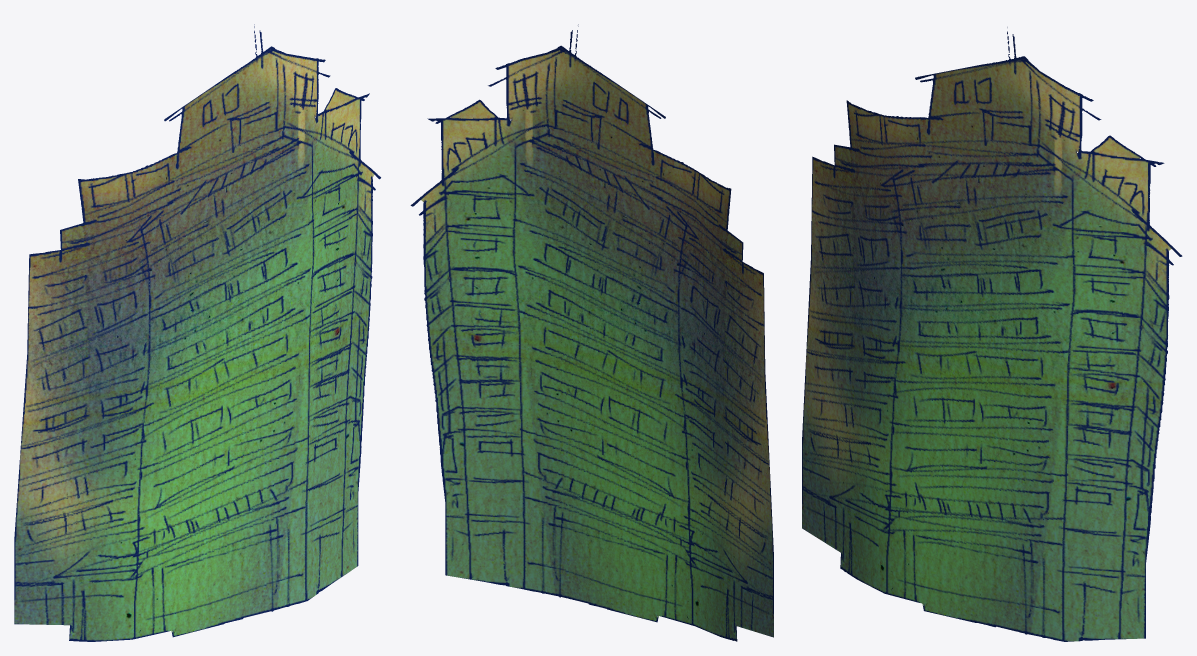
The model's file is 01_mid_bld_02.fbx.
The picture shows the model from 3 angles, left to right: view 1: azimuth 30°, elevation 25°; view 2: azimuth 150°, elevation 25°; view 3: azimuth 330°, elevation 25°; orthographic projection. The views are drawn at different scales.
Visible parts, largest first — view 1: 房子_中景_02; view 2: 房子_中景_02; view 3: 房子_中景_02.
Boxes of the visible parts, x1,y1,x2,y2 form: 房子_中景_02: (14,24,380,641); 房子_中景_02: (410,24,773,641); 房子_中景_02: (802,27,1182,641).
Bounding box in the file's own units: 50.7 × 79.07 × 5.31.
1 material, 1 textured.
